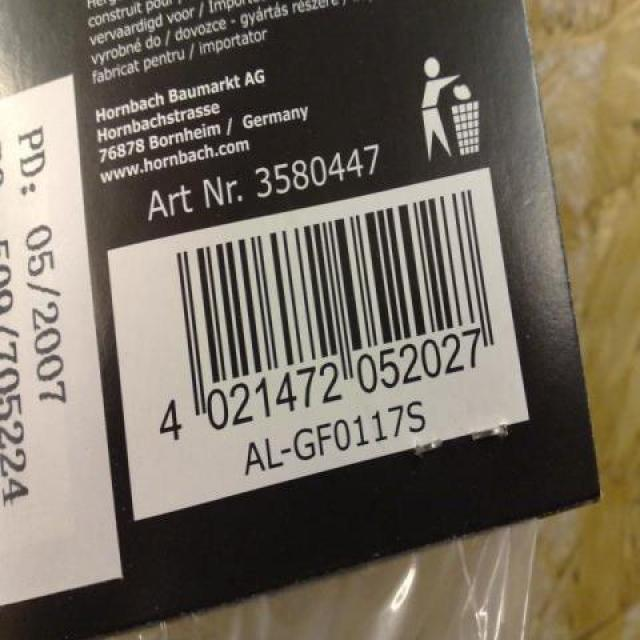Barcode: (107, 168, 530, 523)
